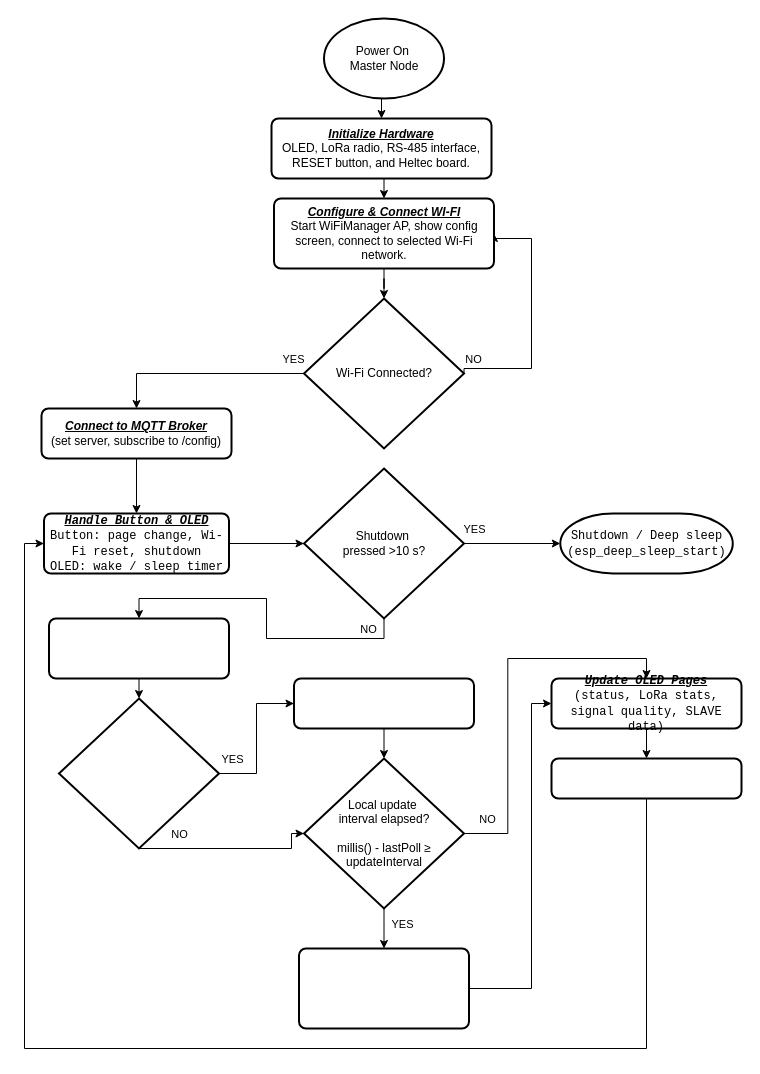
Image size: 760x1074. Some labels were removed from this diagram. Here are the shapes that lost their labels. From the top down, the centre of each, then its label:
the point at 139,648: Maintain Wi-Fi & MQTT (reconnect if needed, mqtt.loop())
the point at 383,703: Process LoRa Packet (parse JSON, update SLAVE data, forward to MQTT)
the point at 139,773: LoRa packet received?
the point at 646,778: Short Delay / Light Sleep (delay(100))
the point at 384,988: Read Local Sensor & Battery (RS-485 soil, VBAT) Publish MASTER data to MQTT
